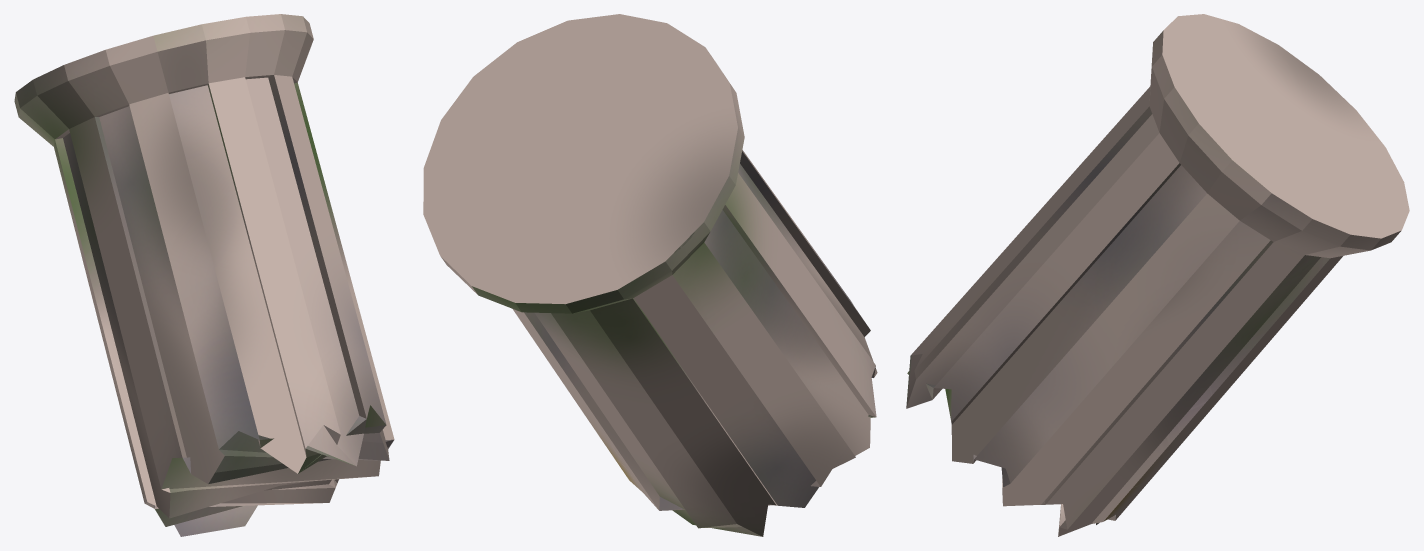
Rendered from pillar_broken2.glb.
The picture shows the model from 3 angles, left to right: view 1: azimuth 30°, elevation 25°; view 2: azimuth 150°, elevation 25°; view 3: azimuth 270°, elevation 25°; orthographic projection. The views are drawn at different scales.
Visible parts, largest first — view 1: Cylinder.002; view 2: Cylinder.002; view 3: Cylinder.002.
Part boxes in pixels (x1=…): Cylinder.002: x1=14, y1=14, x2=394, y2=536; Cylinder.002: x1=423, y1=14, x2=877, y2=536; Cylinder.002: x1=906, y1=14, x2=1409, y2=536.
Bounding box in the file's own units: 0.5384 × 0.9276 × 0.8638.
1 material, 1 textured.
